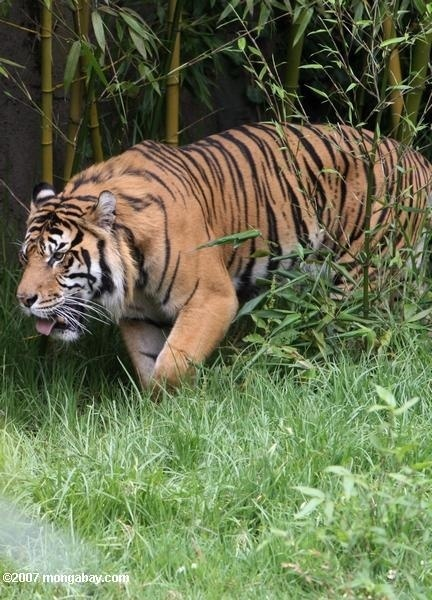tigre: (13, 120, 431, 409)
